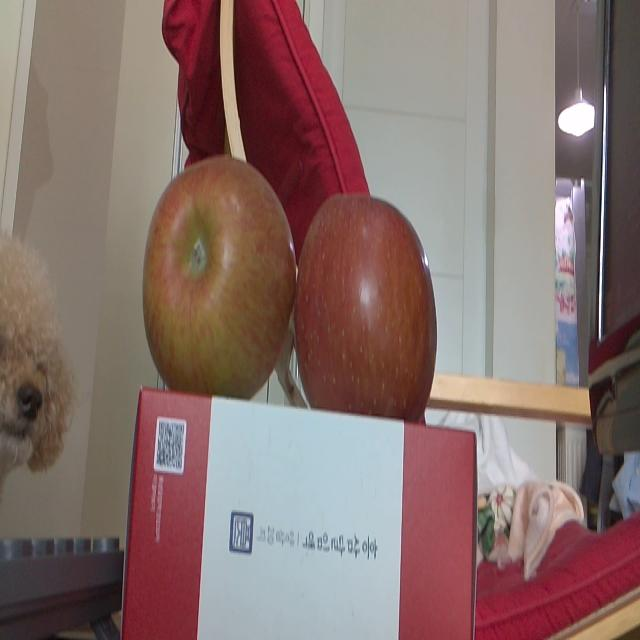apple: (143, 158, 296, 396), (297, 193, 438, 408)
